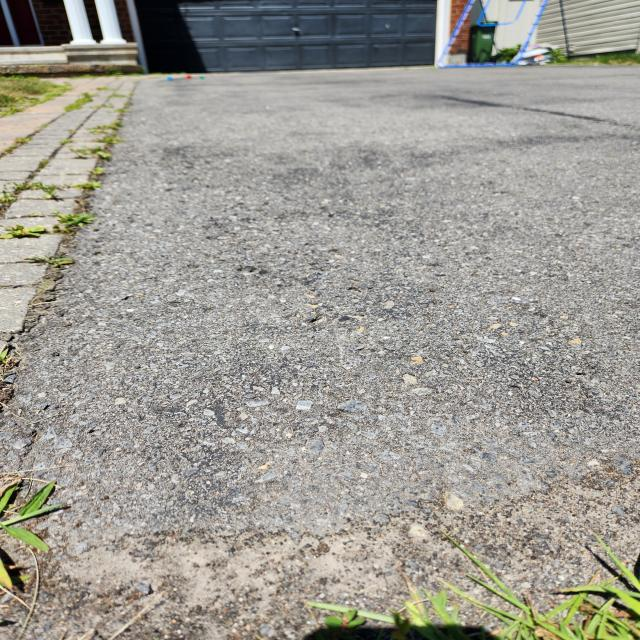bluecube: (166, 76, 173, 81)
green cube: (200, 76, 204, 79)
red cube: (186, 74, 192, 80)
